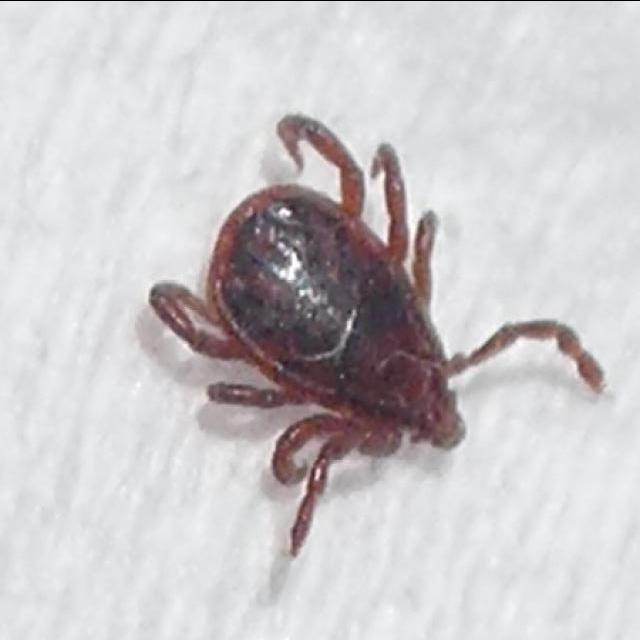Rhipicephalus Sanguineus-M: (150, 113, 603, 556)
